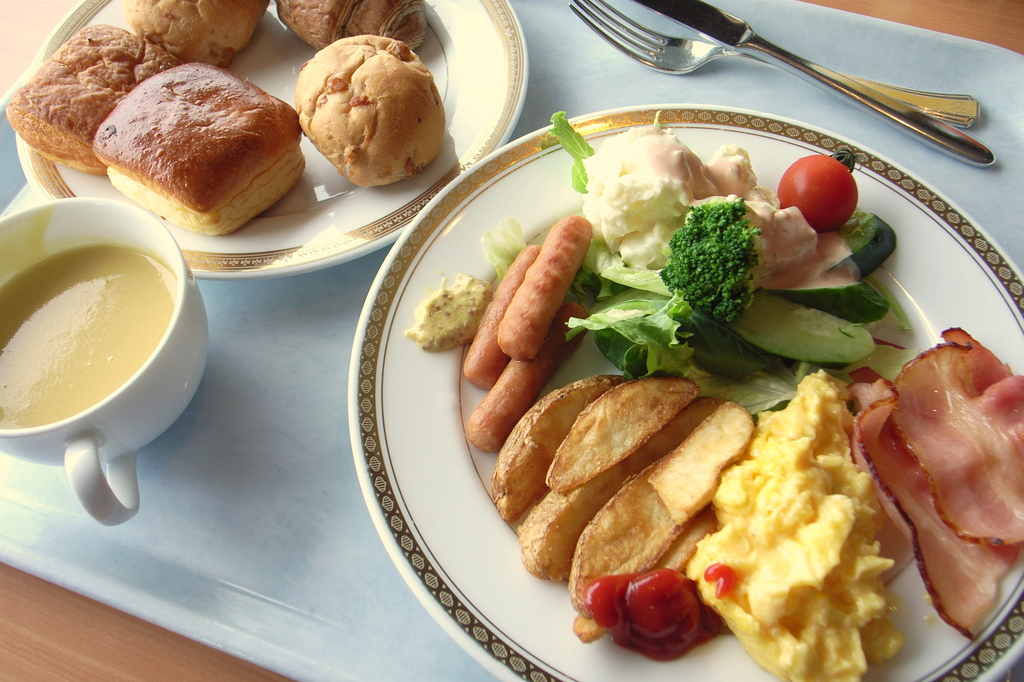Tomato: (775, 150, 862, 237)
